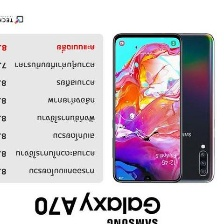phone: (109, 29, 184, 187), (145, 30, 215, 185)
